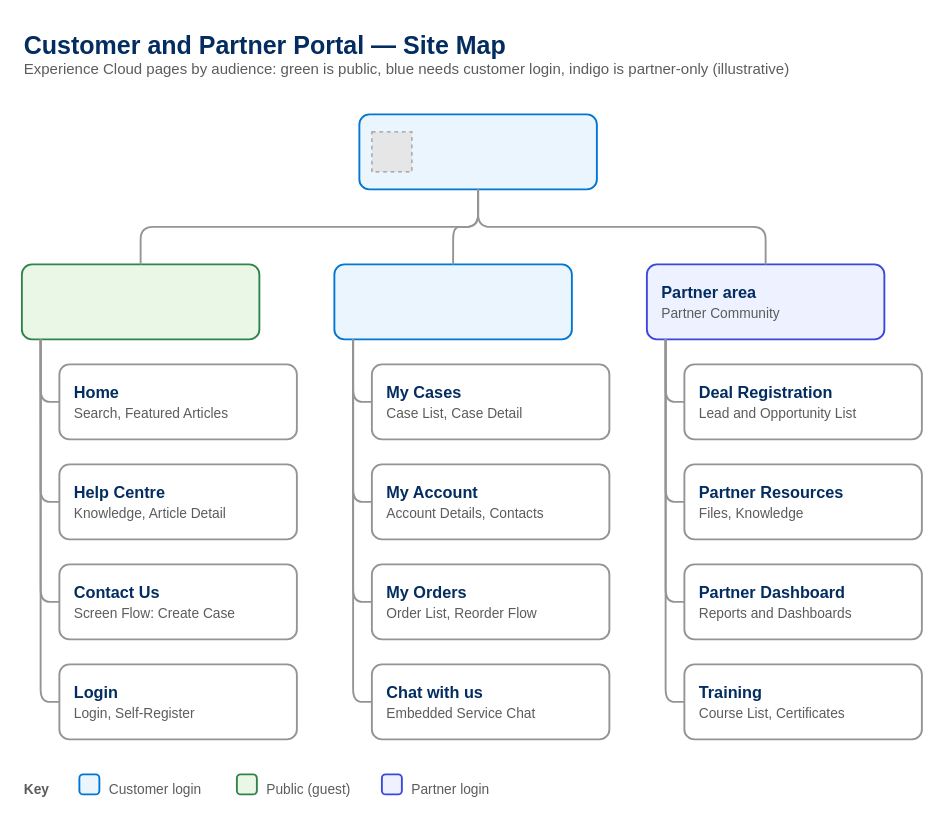
The diagram is 945 pixels wide and 819 high, and some of its shapes have lost their labels. Grey dashed boxes stand in for pictures. Here are the shapes that lost their labels. From the top down, the box of each, then its label:
(358, 113, 597, 190): Northwind Portal Experience Cloud site
(20, 263, 260, 340): Public pages Guest user
(333, 263, 572, 340): Customer area Customer Community Plus
